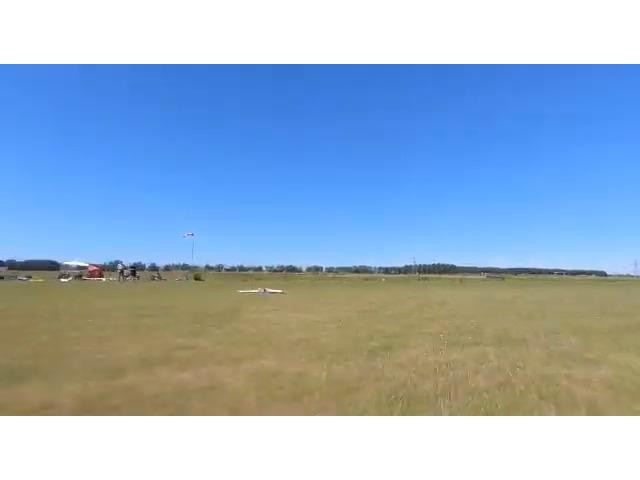Anti-Drone: (224, 279, 302, 301)
